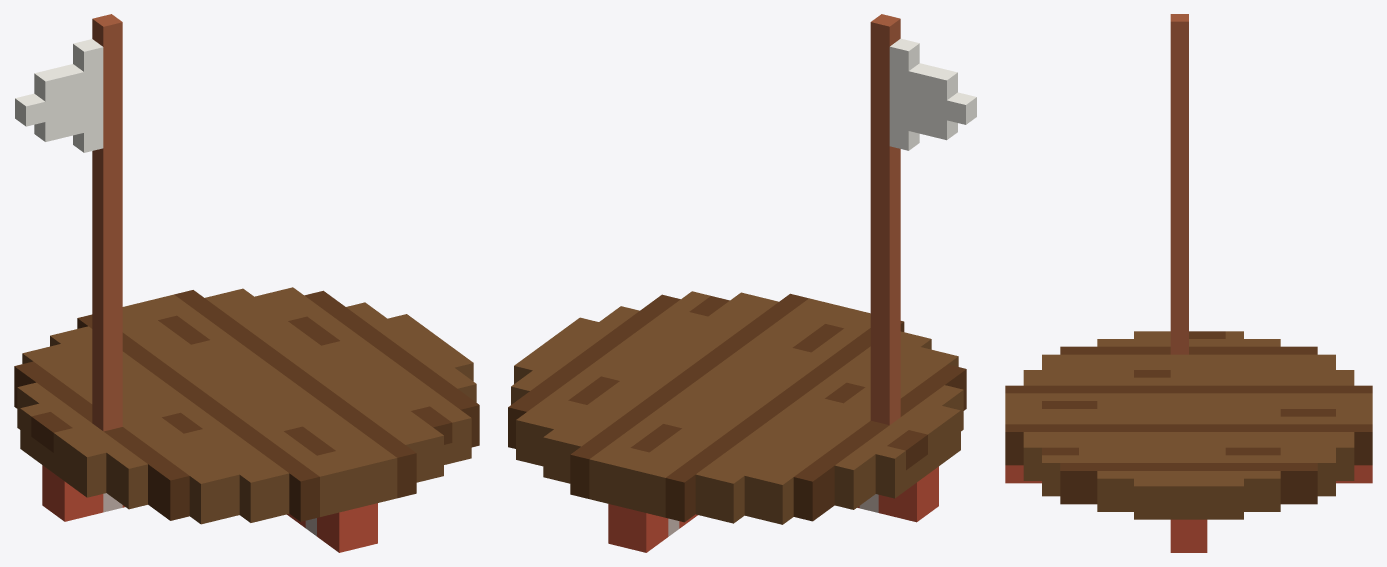
The model's file is ship.obj.
3 views of the same model, side by side, from view 1: azimuth 30°, elevation 25°; view 2: azimuth 150°, elevation 25°; view 3: azimuth 270°, elevation 25° (orthographic). The views are drawn at different scales.
Bounding box in the file's own units: 2.2 × 2.4 × 2.
Materials: 1 (1 with a texture image).
